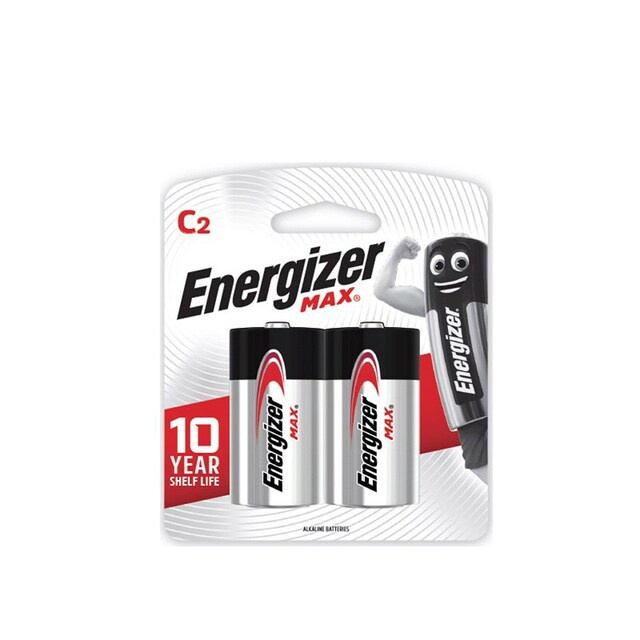Battery: (225, 318, 324, 511), (324, 320, 424, 510)
